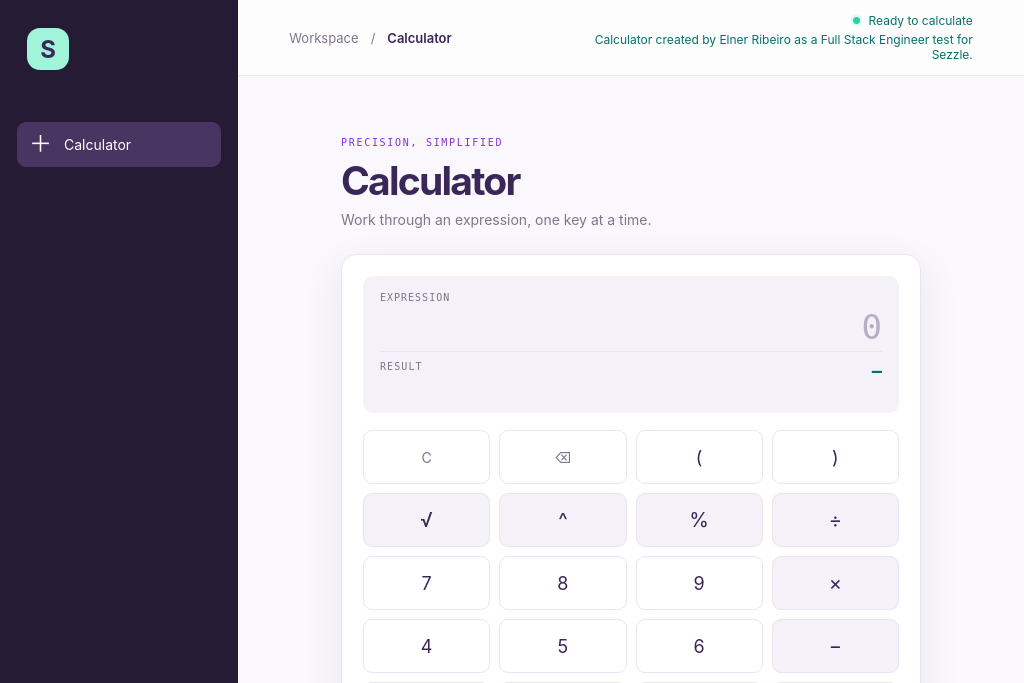
Scenario: calculator › shows a recoverable error with support reference and preserves the expression
Click the button "8".
click(563, 583)  # box 499,556 -> 627,610
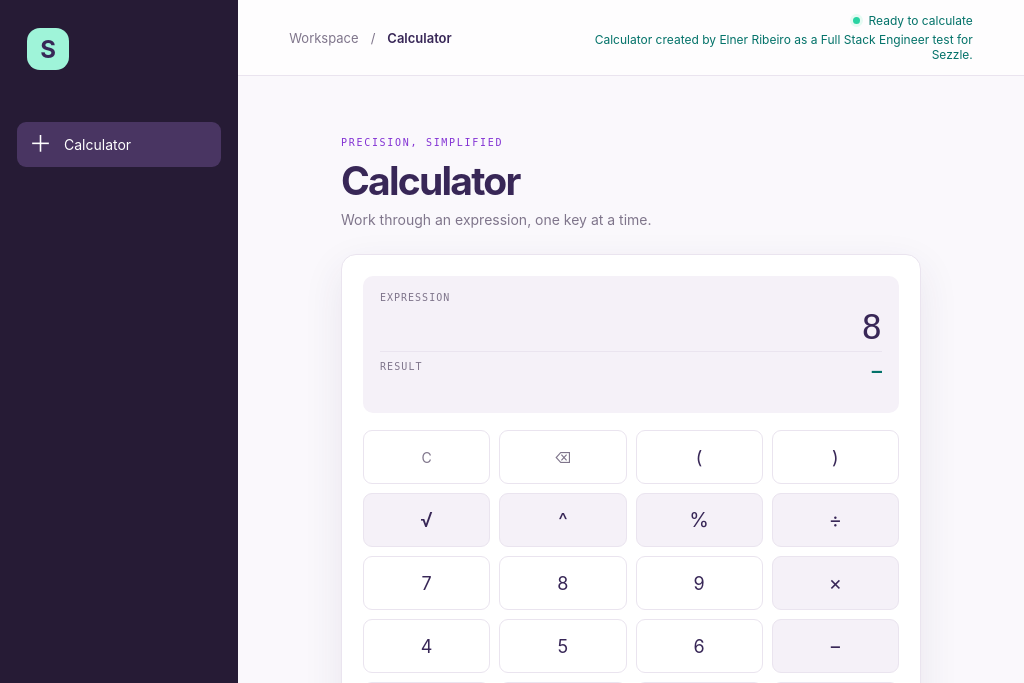
Click the button "÷".
click(835, 520)  # box 772,493 -> 899,547
(page scrolled)
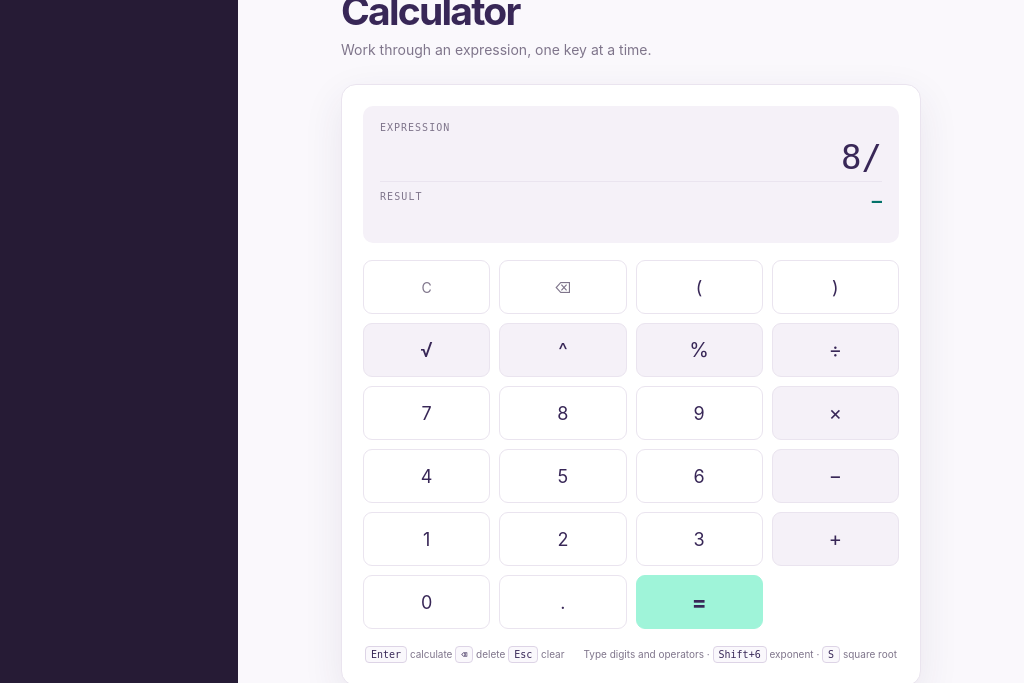
Click the button "0".
click(427, 602)  # box 363,575 -> 490,629
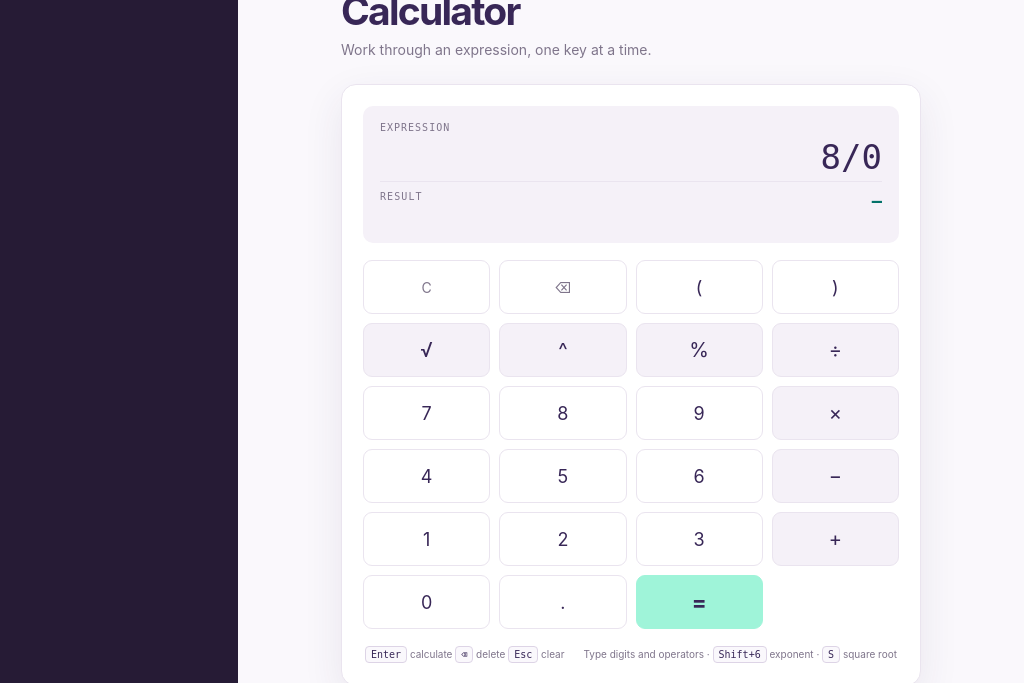
Click the button "=".
click(699, 602)  # box 636,575 -> 763,629
(page scrolled)
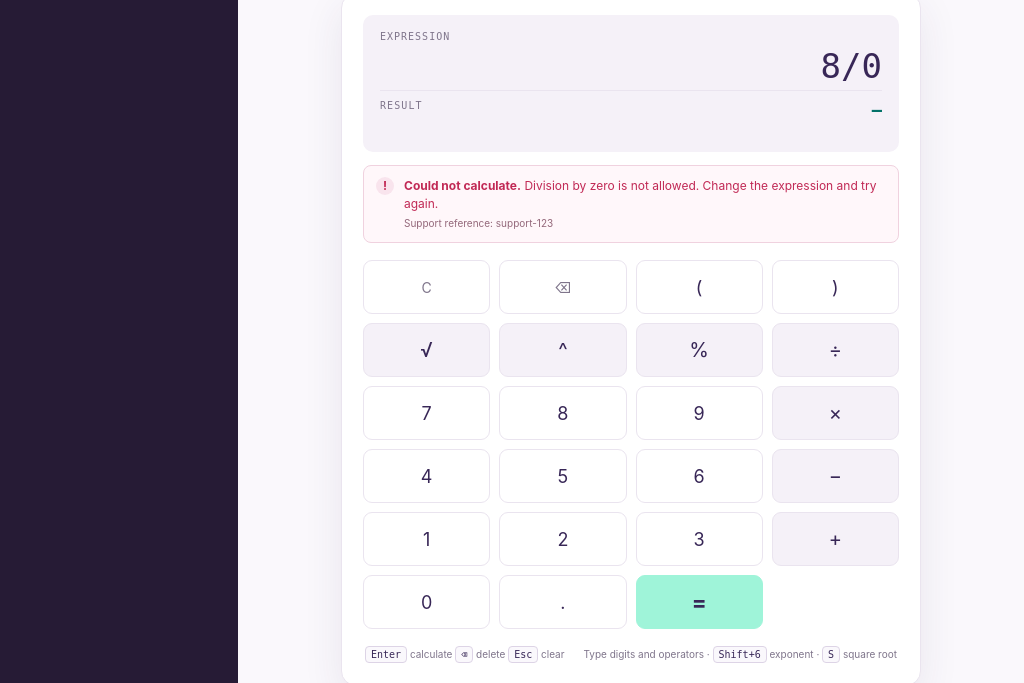
Expected: the field labelled "Expression" holds "8/0", 380,42 -> 882,90
Expected: the message that starts with "Could not calculate." is shown, 404,178 -> 521,193
Expected: the message that starts with "Could not calculate." shows "support-123", 496,217 -> 553,229
